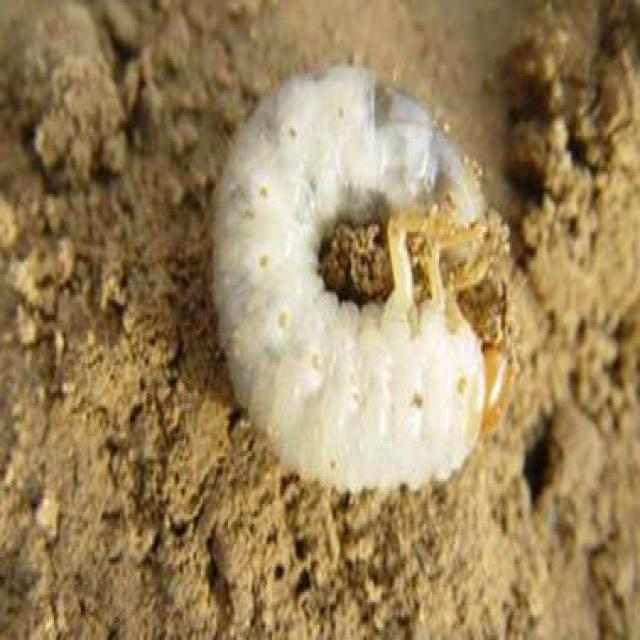Grub-Adult-: (208, 57, 520, 498)
